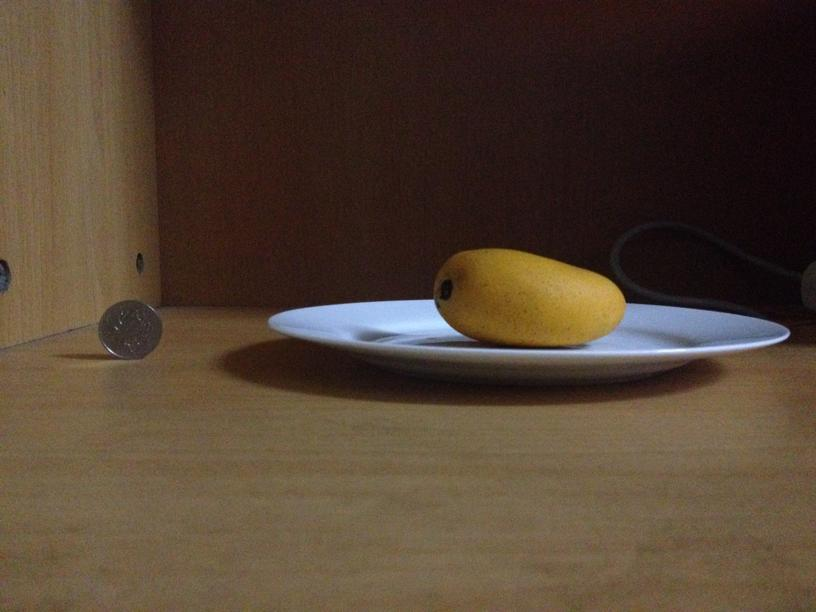coin: (98, 299, 161, 360)
mango: (429, 252, 628, 345)
